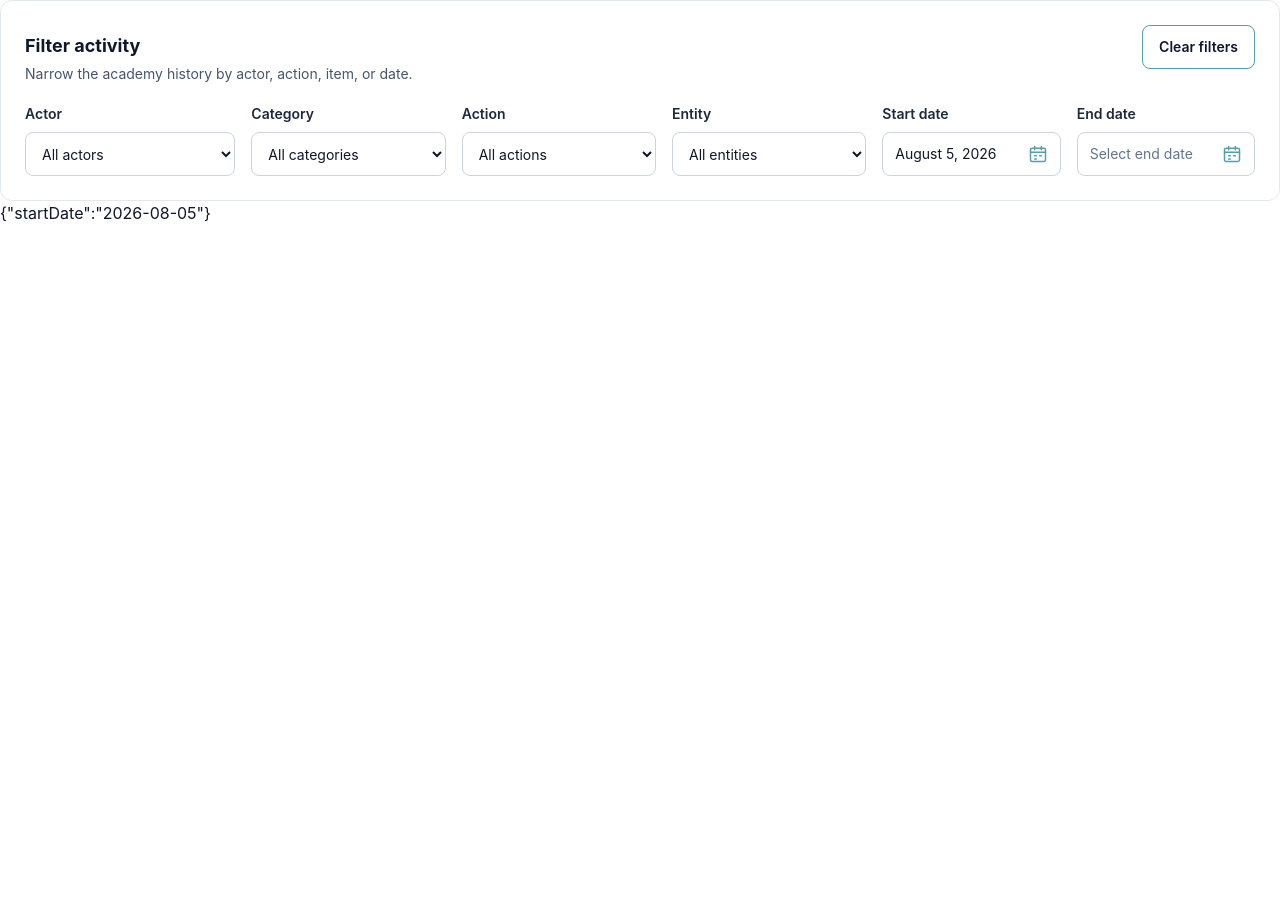
Test case: BusinessAuditFilters date pickers › opens and selects an End date while disabling dates before Start
Click the button "Select end date" at (1166, 154), box 1077,132 -> 1255,176
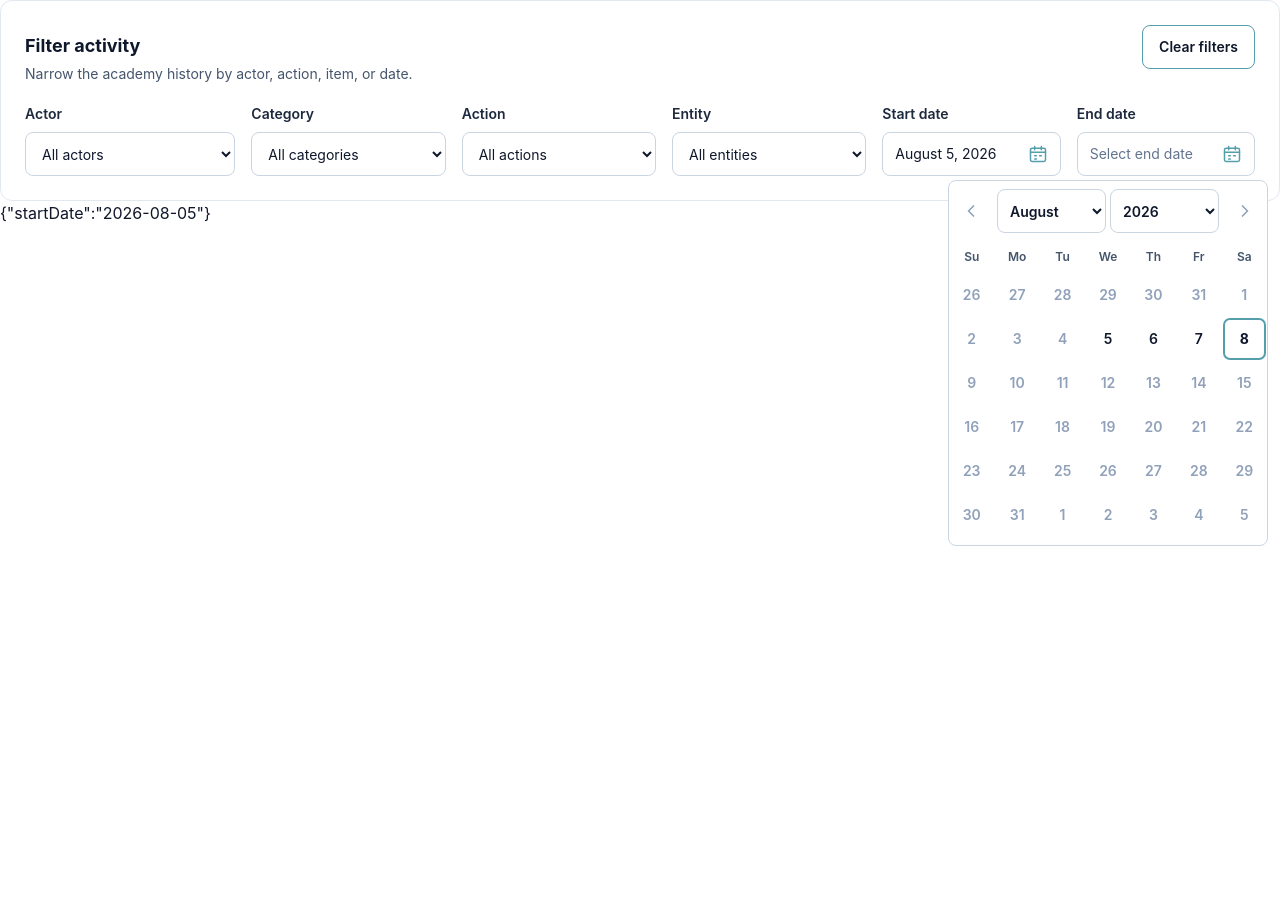
Expected: the dialog named "Choose end date, August 2026" is shown, 948,180 -> 1268,546
Expected: the cell named "Tuesday, August 4, 2026" is disabled, 1040,317 -> 1085,361
Click the cell named "Thursday, August 6, 2026" at (1153, 339), box 1131,317 -> 1176,361
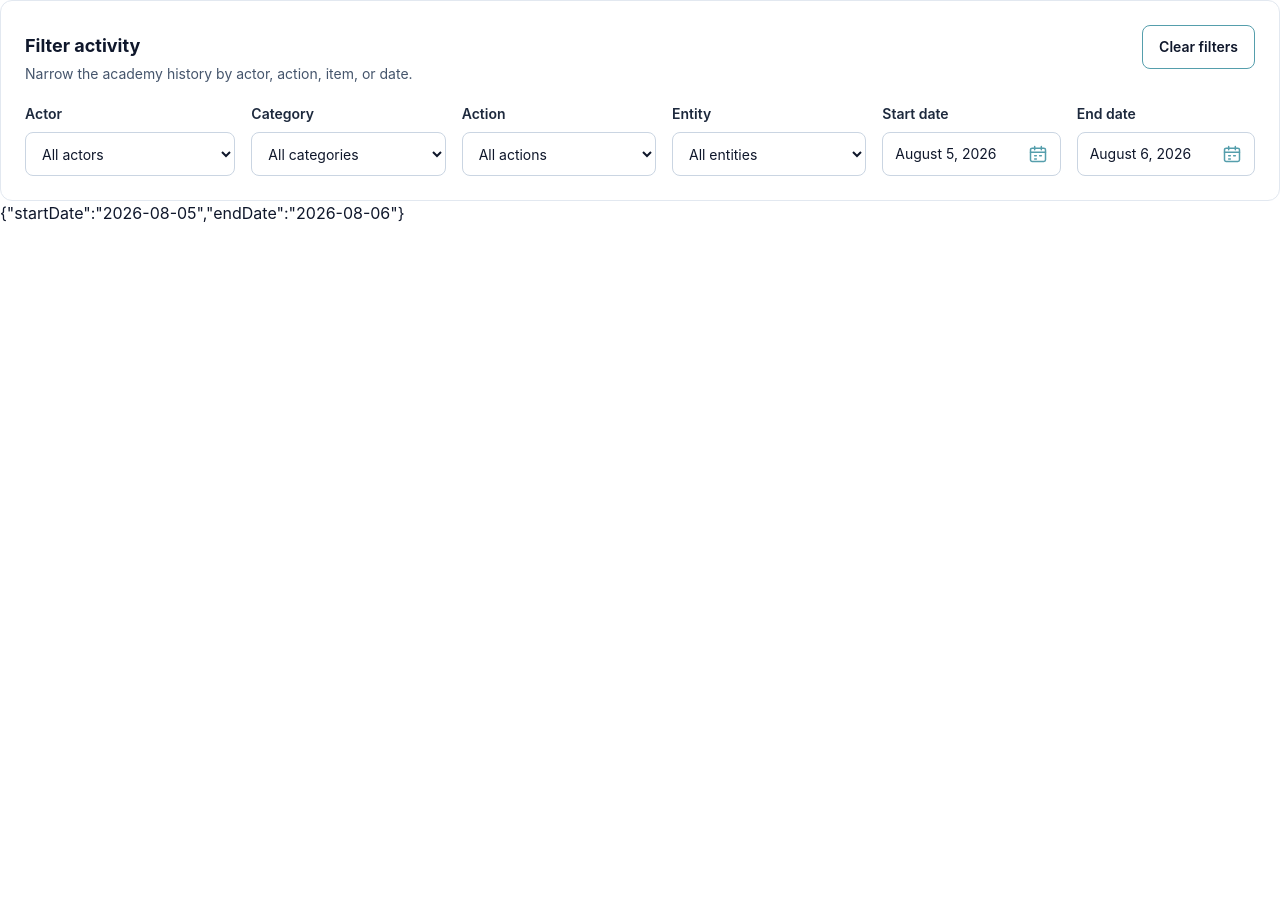
Expected: the button named "End date" reads "August 6, 2026", 1077,132 -> 1255,176
Expected: the text with test id "filter-state" shows "\"endDate\":\"2026-08-06\"", 0,203 -> 405,223
